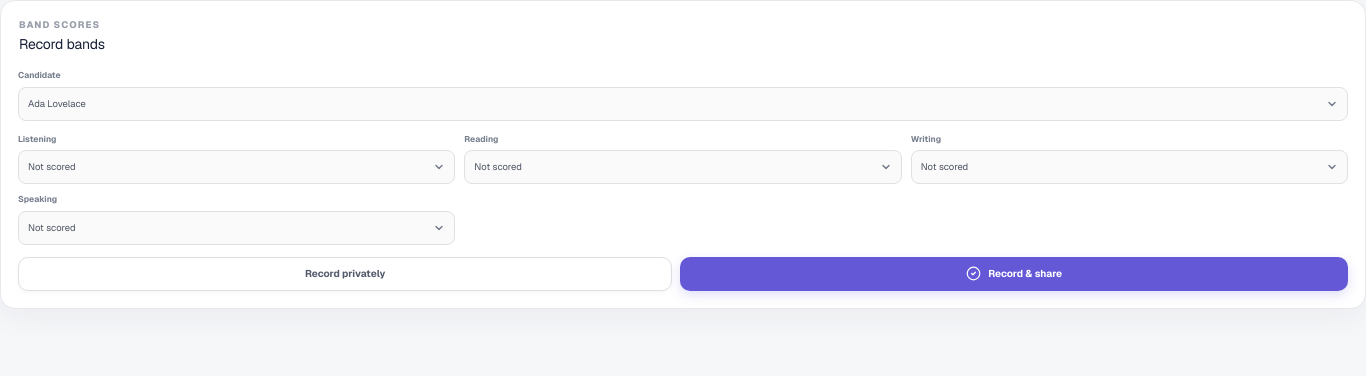
Test: IELTS band entry › refuses to record when no band was chosen
The width and height of the screenshot is (1366, 376).
Step 1. Click the button "Record privately" → point(345, 274), box [18,256,672,290]
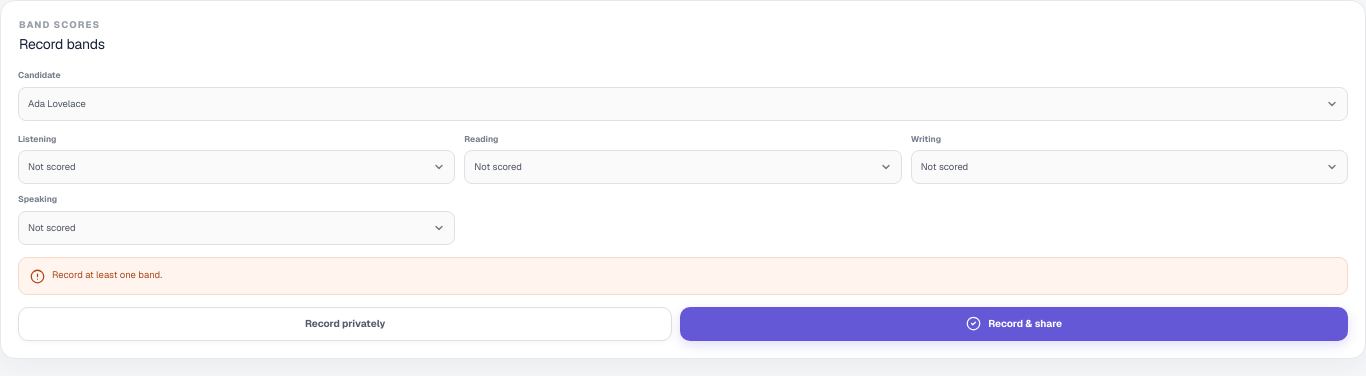
Expected: the message "Record at least one band." is shown, [18,256,1348,294]
